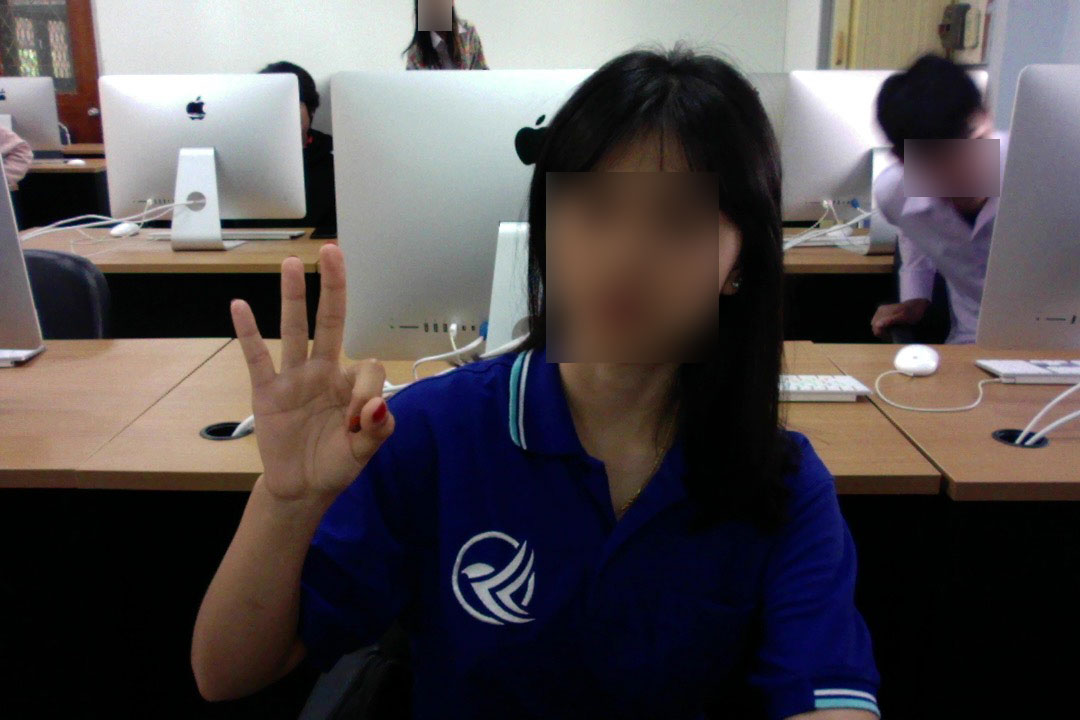for: (207, 237, 410, 530)
